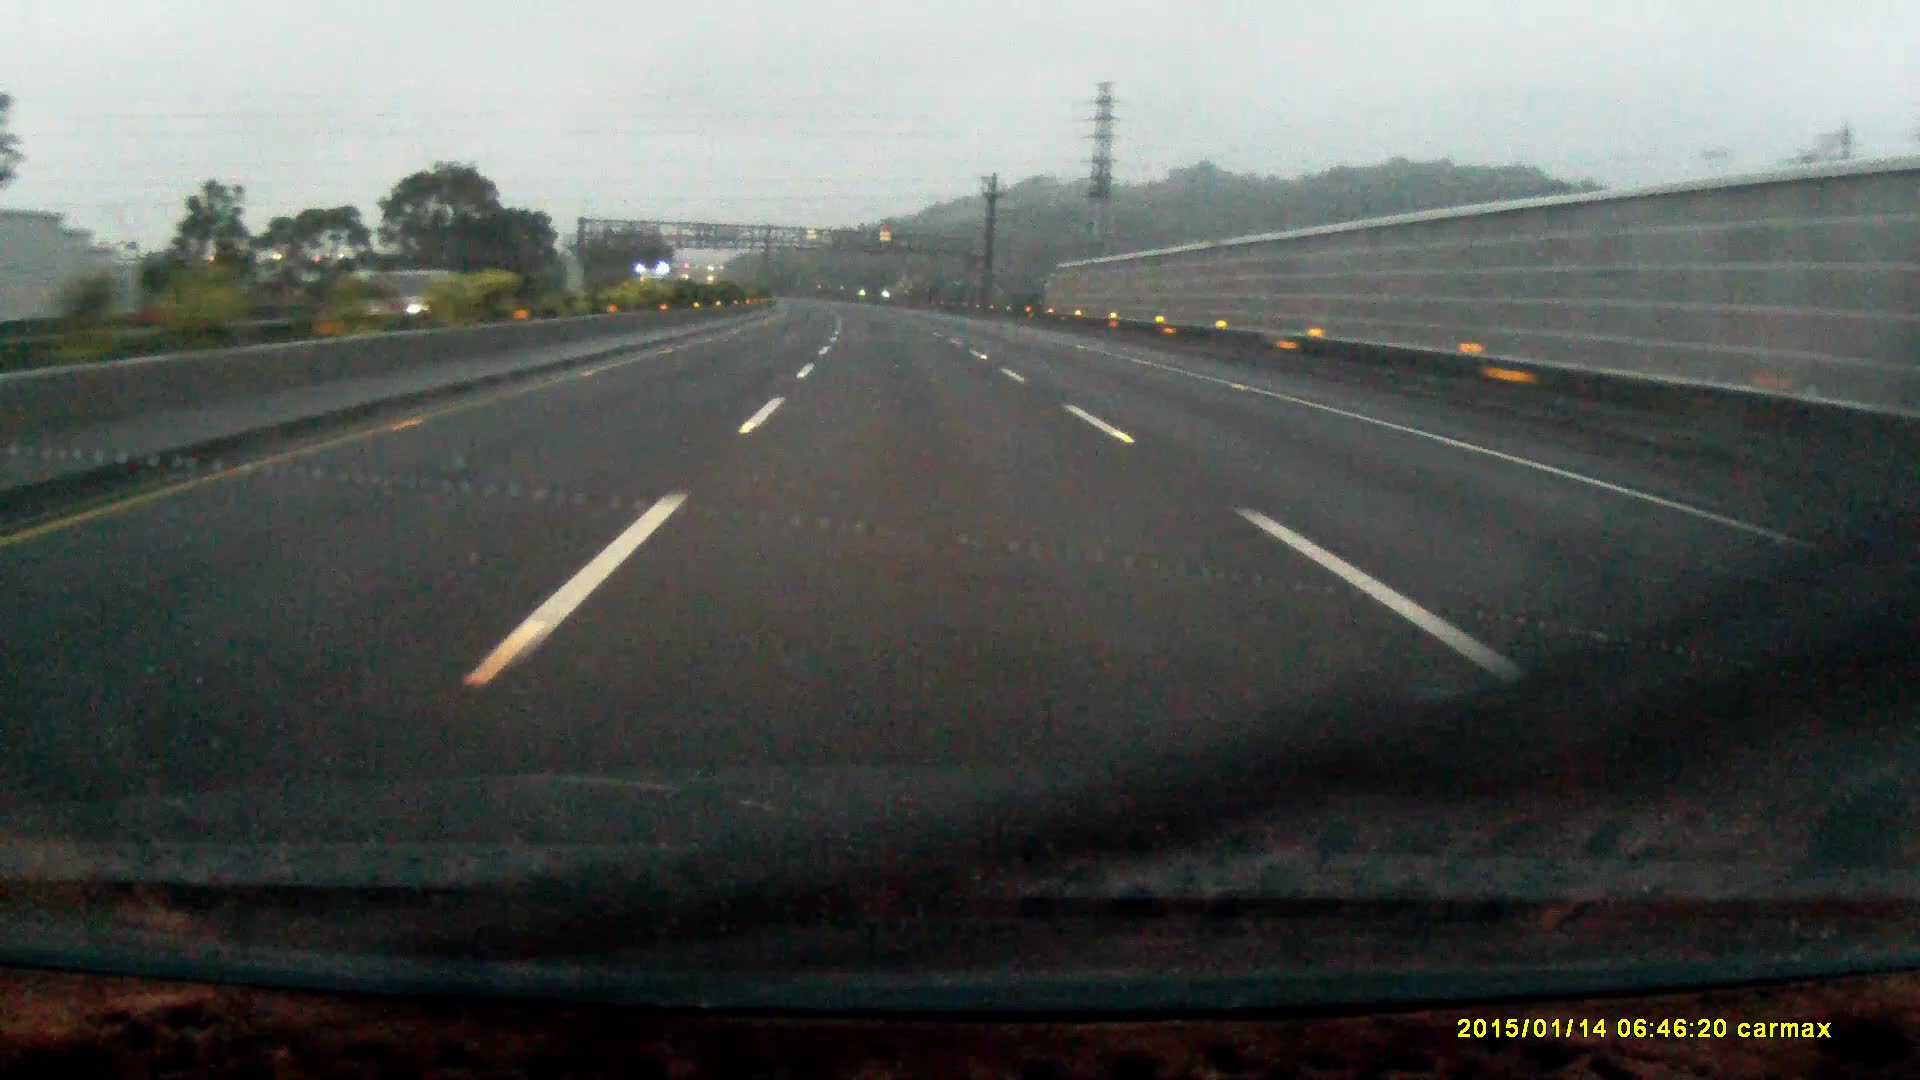vehicle: (353, 268, 452, 319), (638, 262, 684, 307)
